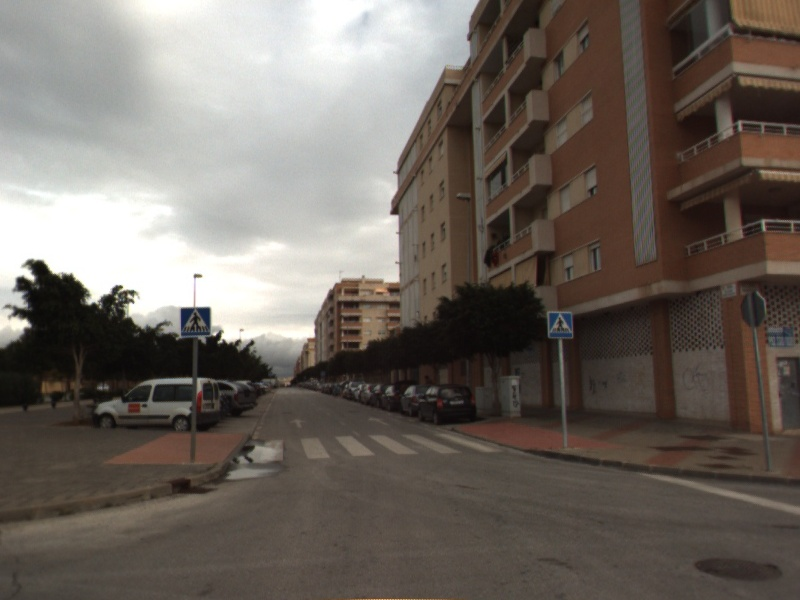STRAIGHT: (366, 414, 391, 427), (288, 416, 308, 430)
